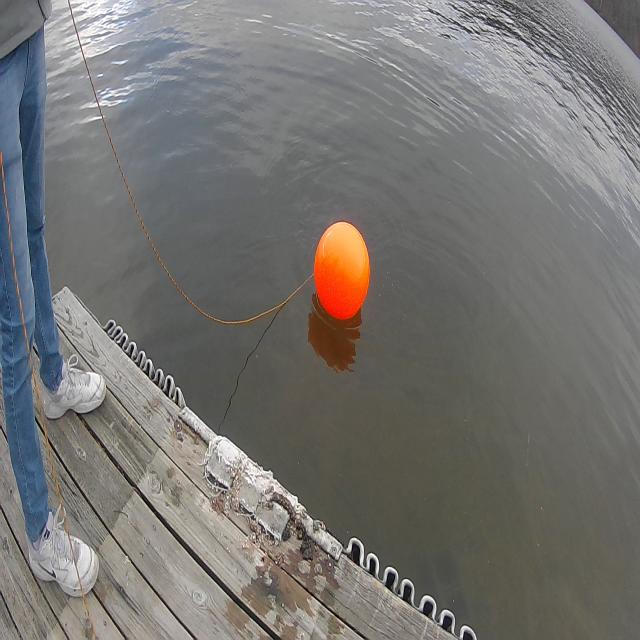Buoy: (308, 209, 378, 341)
